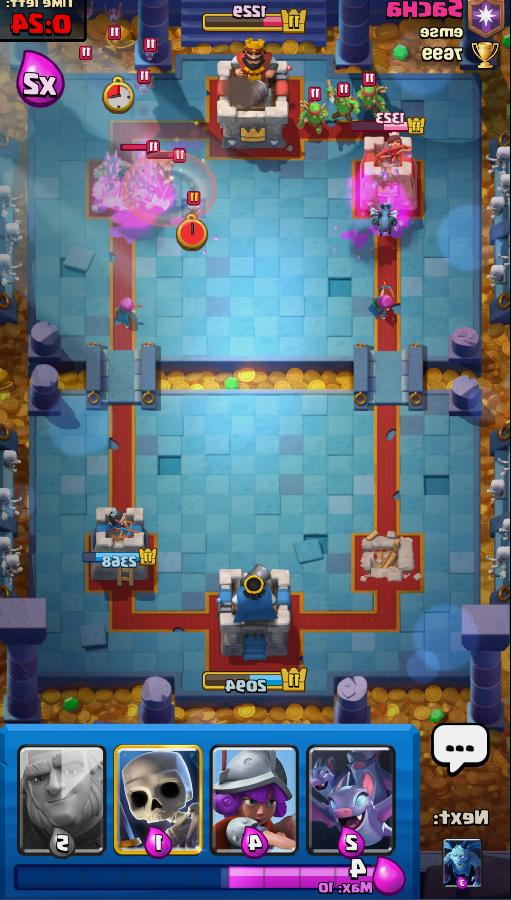archere: (359, 282, 406, 324), (106, 292, 146, 336)
bat: (124, 70, 161, 99), (129, 43, 169, 66), (99, 5, 128, 29), (72, 5, 98, 27)
gargouille: (365, 202, 403, 233)
gobelin_lances: (354, 78, 393, 120), (323, 82, 360, 126), (292, 95, 328, 137)
